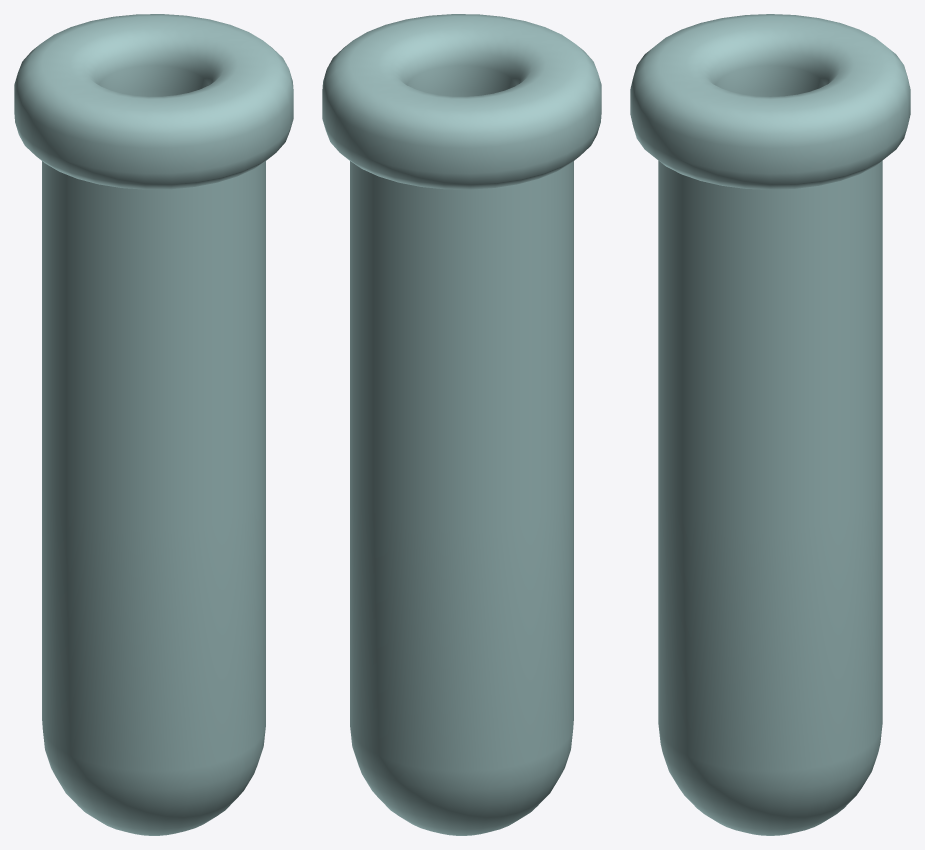
The model's file is LastLuna_Model_Station_TestTube.fbx.
3 renders of one model, left to right at view 1: azimuth 30°, elevation 25°; view 2: azimuth 150°, elevation 25°; view 3: azimuth 270°, elevation 25°, orthographic.
Parts seen in each view (by area): view 1: Neck001; view 2: Neck001; view 3: Neck001.
Part boxes in pixels (<box>): Neck001: <box>14,14,293,835</box>; Neck001: <box>322,14,601,835</box>; Neck001: <box>630,14,910,835</box>.
Bounding box in the file's own units: 25 × 75 × 25.
